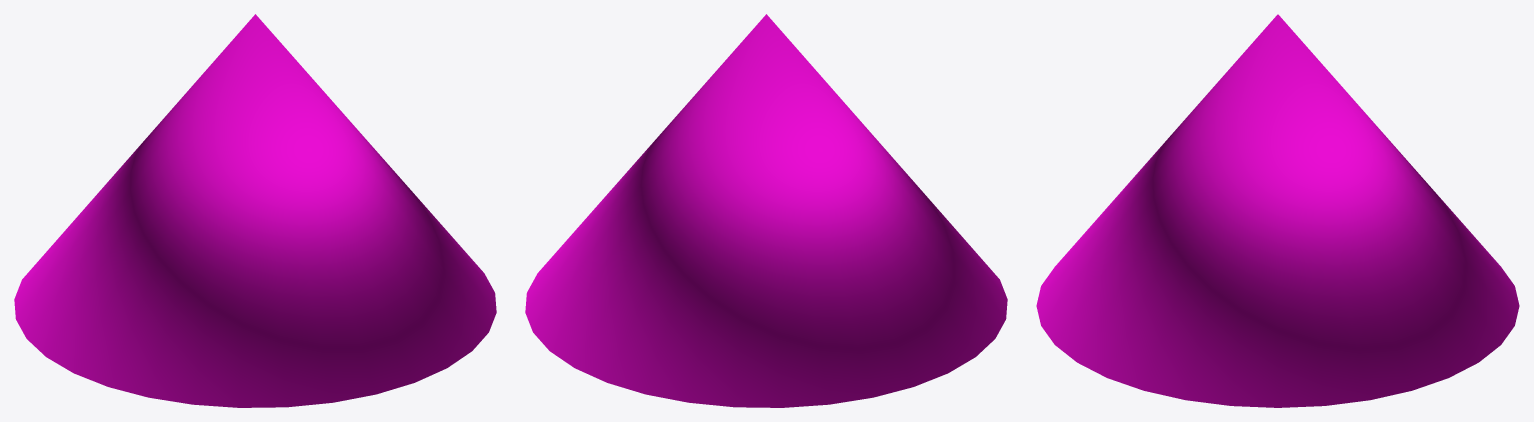
File: ArrowTip.fbx
3 views of the same model, side by side, from view 1: azimuth 30°, elevation 25°; view 2: azimuth 150°, elevation 25°; view 3: azimuth 270°, elevation 25° (orthographic).
Parts seen in each view (by area): view 1: Cone; view 2: Cone; view 3: Cone.
Boxes of the visible parts, x1=… form: Cone: x1=14, y1=14, x2=496, y2=407; Cone: x1=525, y1=14, x2=1007, y2=407; Cone: x1=1036, y1=14, x2=1519, y2=407.
Bounding box in the file's own units: 3 × 2 × 3.
